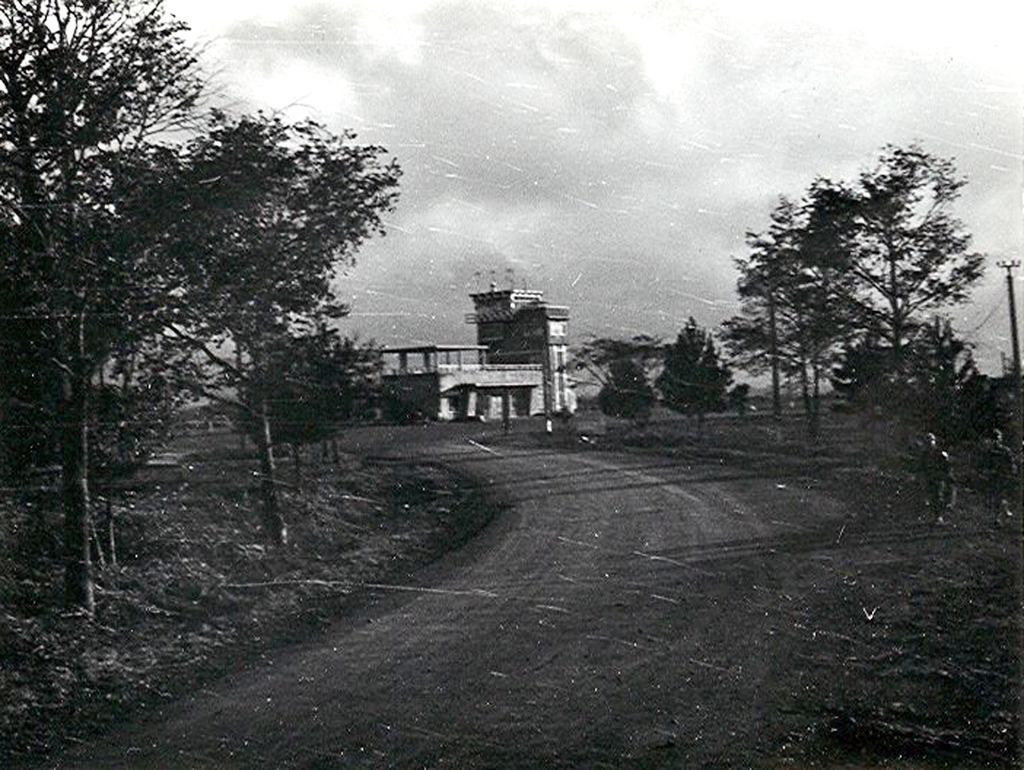Tree: (0, 0, 405, 618), (557, 137, 1023, 474)
